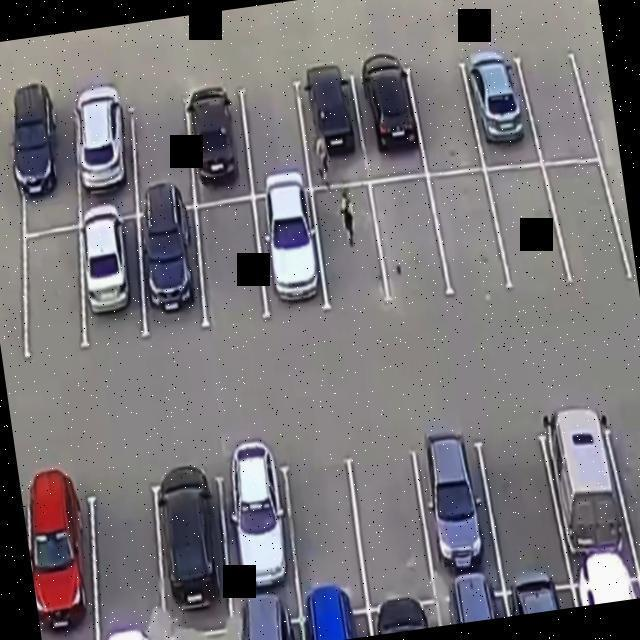car: (147, 476, 238, 630), (218, 467, 306, 607), (22, 490, 104, 640), (418, 448, 501, 594), (135, 204, 216, 338), (548, 431, 621, 576), (11, 93, 82, 224), (76, 214, 149, 338), (189, 91, 258, 205), (257, 192, 326, 306), (296, 74, 368, 182), (471, 64, 539, 168), (355, 68, 422, 173), (78, 110, 144, 206)
free: (82, 497, 174, 639), (8, 232, 96, 363), (484, 437, 564, 581), (354, 454, 434, 594), (288, 463, 370, 599), (198, 196, 270, 330), (488, 169, 560, 296), (550, 162, 620, 292), (434, 172, 504, 300), (370, 177, 442, 299), (310, 186, 382, 297), (238, 78, 308, 188), (128, 95, 198, 202), (524, 50, 586, 164), (412, 69, 474, 164), (612, 433, 640, 575)
